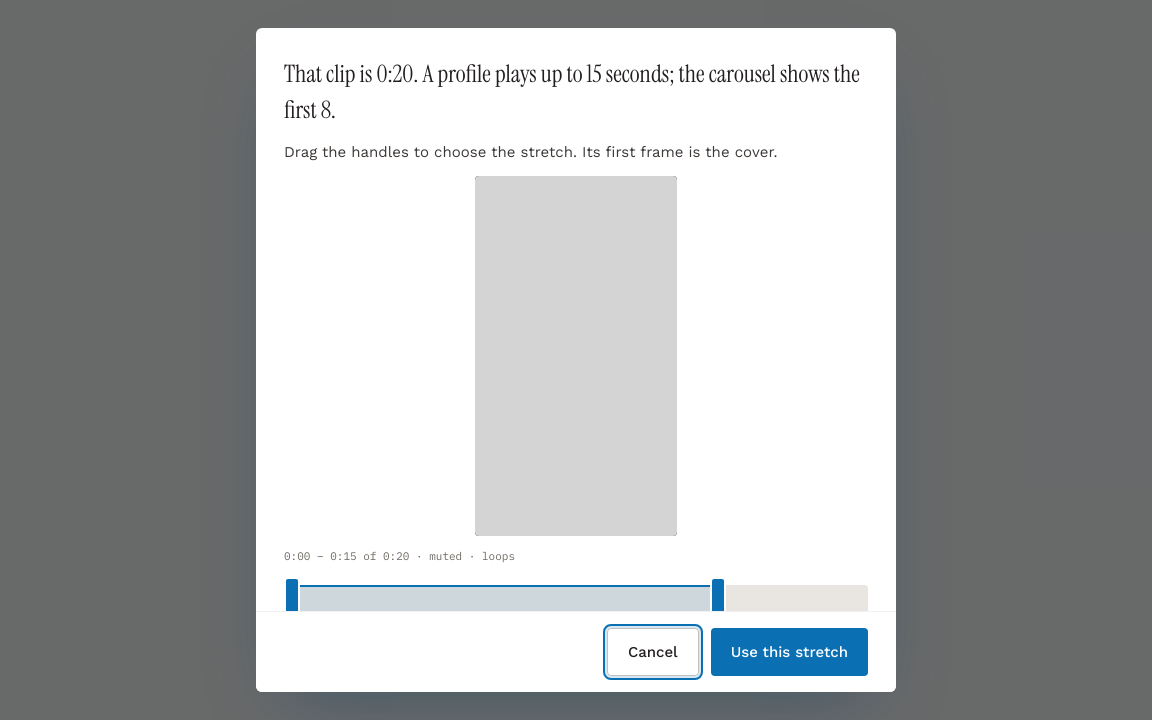
Test case: TrimEditor › shows core's sentence for a half-second stretch and clears it once the stretch is fine
This screenshot has width=1152, height=720.
Set the slider named "Start" to "5". click: (434, 599)
box: x1=284 y1=577 x2=868 y2=621
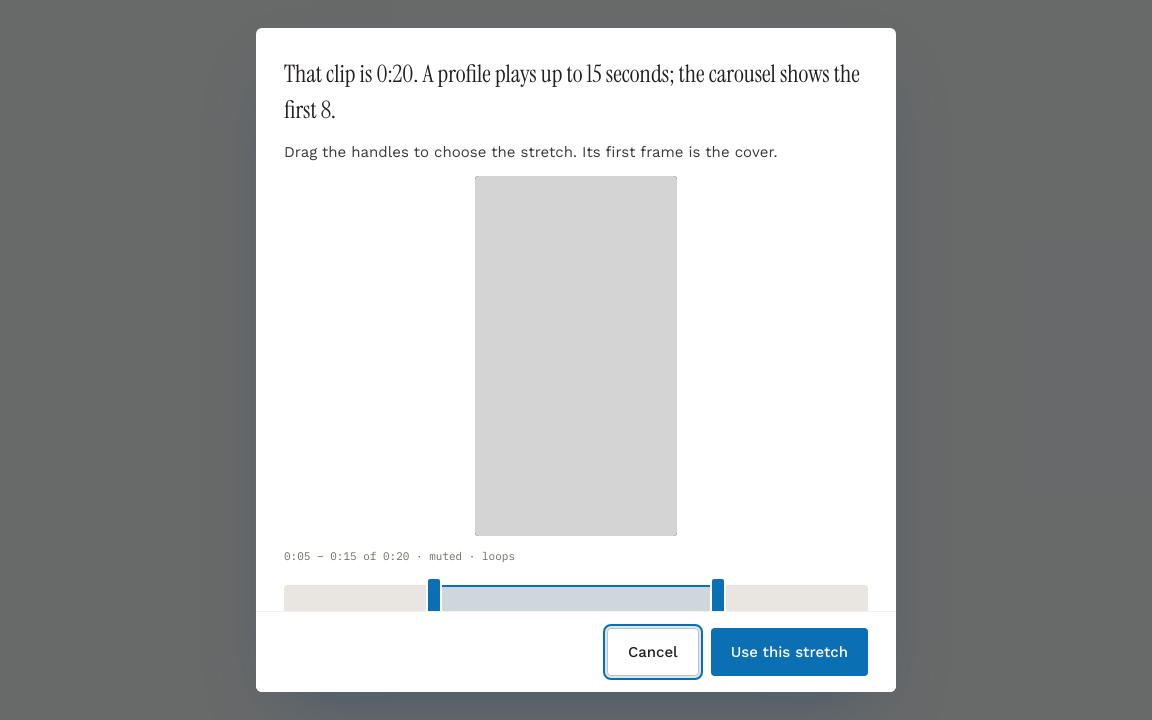
Set the slider named "End" to "5.5". click: (448, 599)
box: x1=284 y1=577 x2=868 y2=621
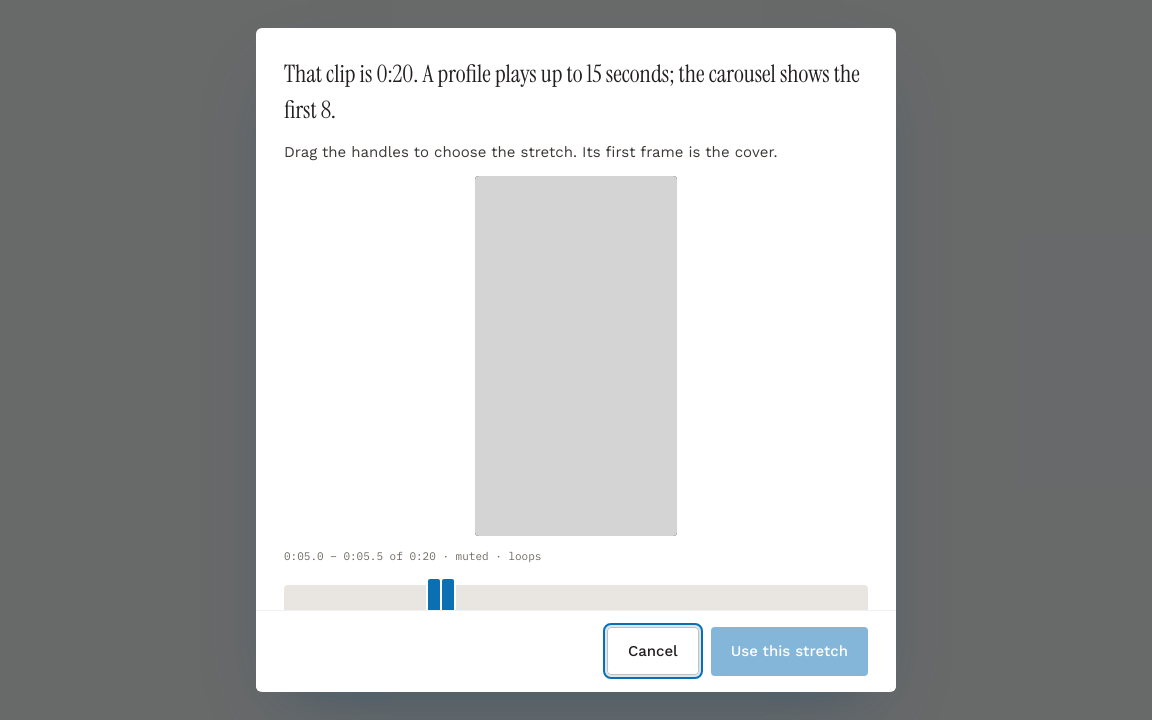
Now the button "Use this stretch" is disabled, box x1=711 y1=628 x2=868 y2=676
Set the slider named "End" to "12". click: (633, 599)
box: x1=284 y1=577 x2=868 y2=621
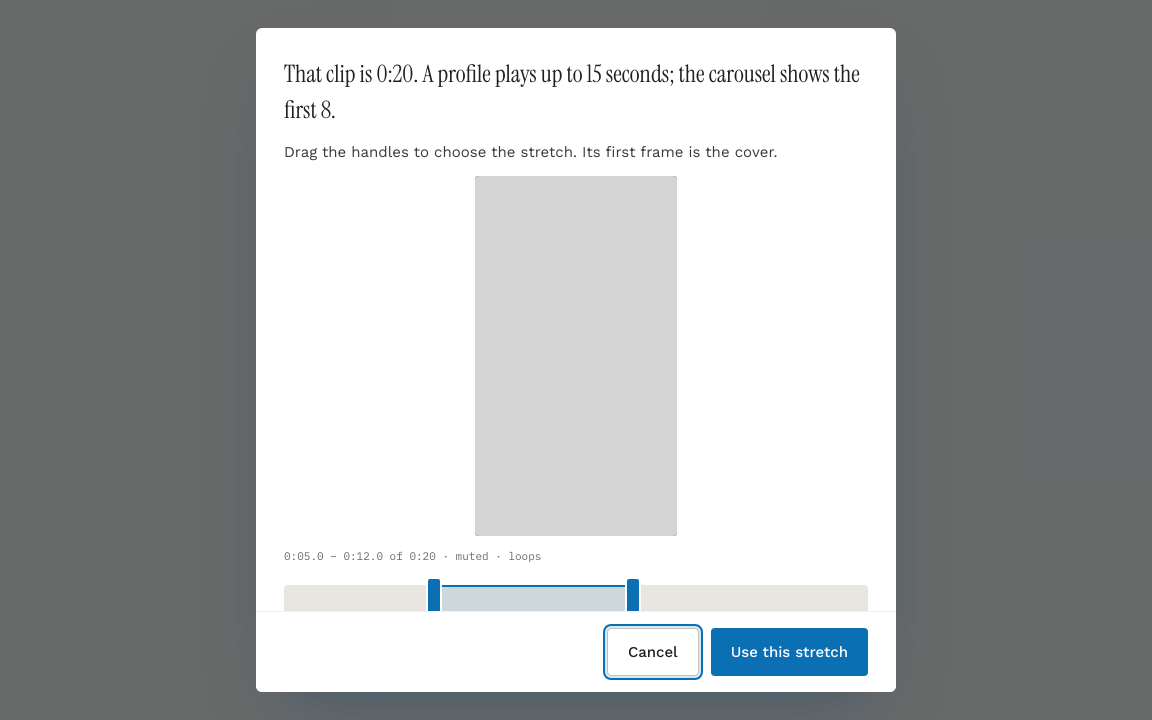
Now the button "Use this stretch" is enabled, box x1=711 y1=628 x2=868 y2=676
